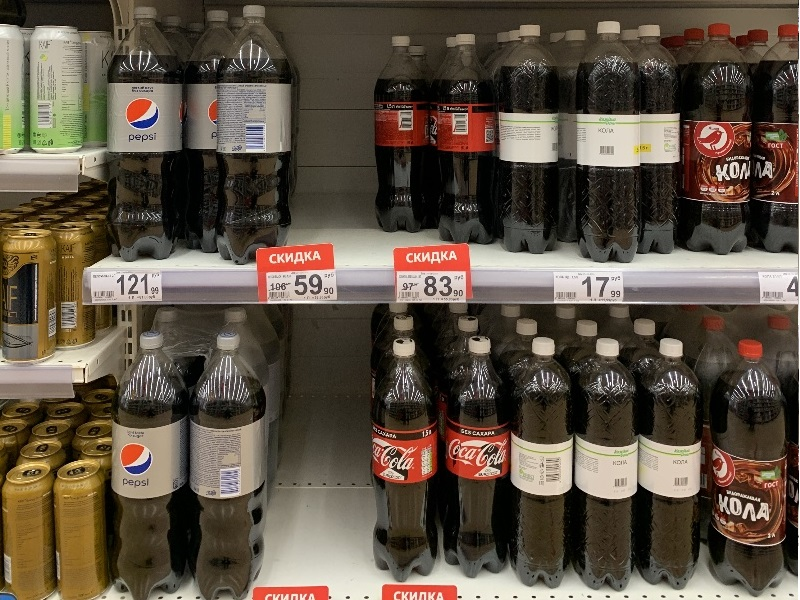lemonade: (90, 6, 197, 269), (622, 337, 724, 592), (357, 340, 455, 585), (185, 333, 273, 600), (106, 329, 192, 597), (705, 339, 793, 597), (666, 20, 760, 258), (213, 3, 295, 264), (437, 339, 522, 579), (568, 341, 647, 595), (507, 337, 586, 589), (569, 18, 644, 269), (429, 29, 511, 250), (360, 32, 445, 238), (495, 24, 568, 258)
